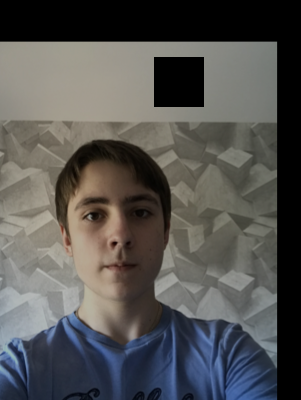without_mask: (71, 192, 168, 302)
